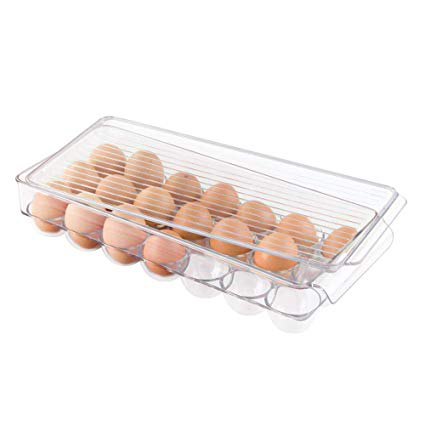egg: (31, 143, 362, 290)
